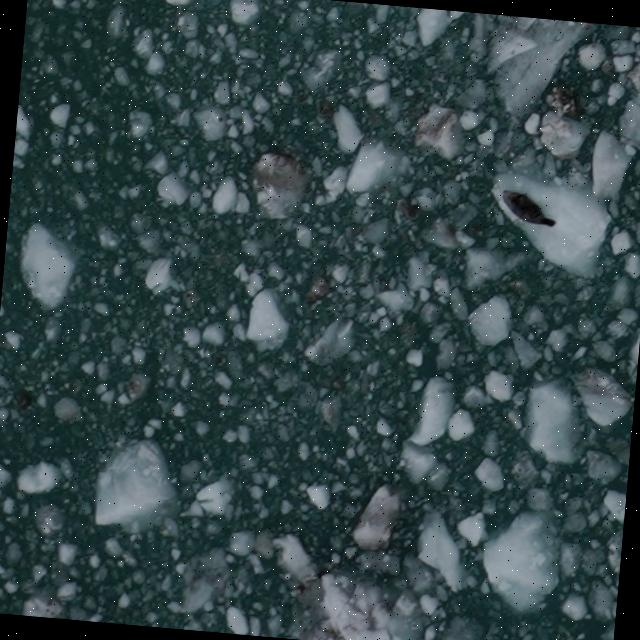seal: (496, 185, 559, 229)
